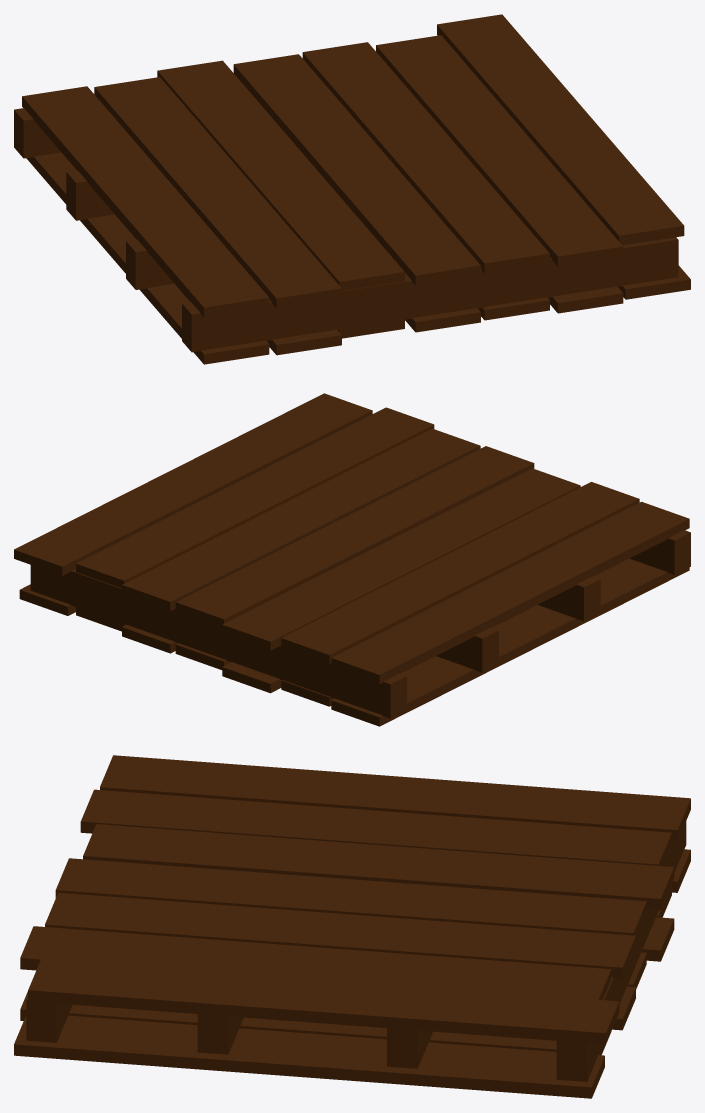
The model's file is board_simple-industry-crane-1.fbx.
The picture shows the model from 3 angles, top to bottom: view 1: azimuth 30°, elevation 25°; view 2: azimuth 150°, elevation 25°; view 3: azimuth 270°, elevation 25°; orthographic projection. The views are drawn at different scales.
Visible parts, largest first — view 1: board.simple-industry-crane-1; view 2: board.simple-industry-crane-1; view 3: board.simple-industry-crane-1.
Boxes of the visible parts, bbox=[...] form: board.simple-industry-crane-1: bbox=[14, 14, 690, 364]; board.simple-industry-crane-1: bbox=[14, 393, 690, 726]; board.simple-industry-crane-1: bbox=[14, 755, 690, 1098].
Size of the model in its own units: 1.05 by 0.1126 by 1.06.
